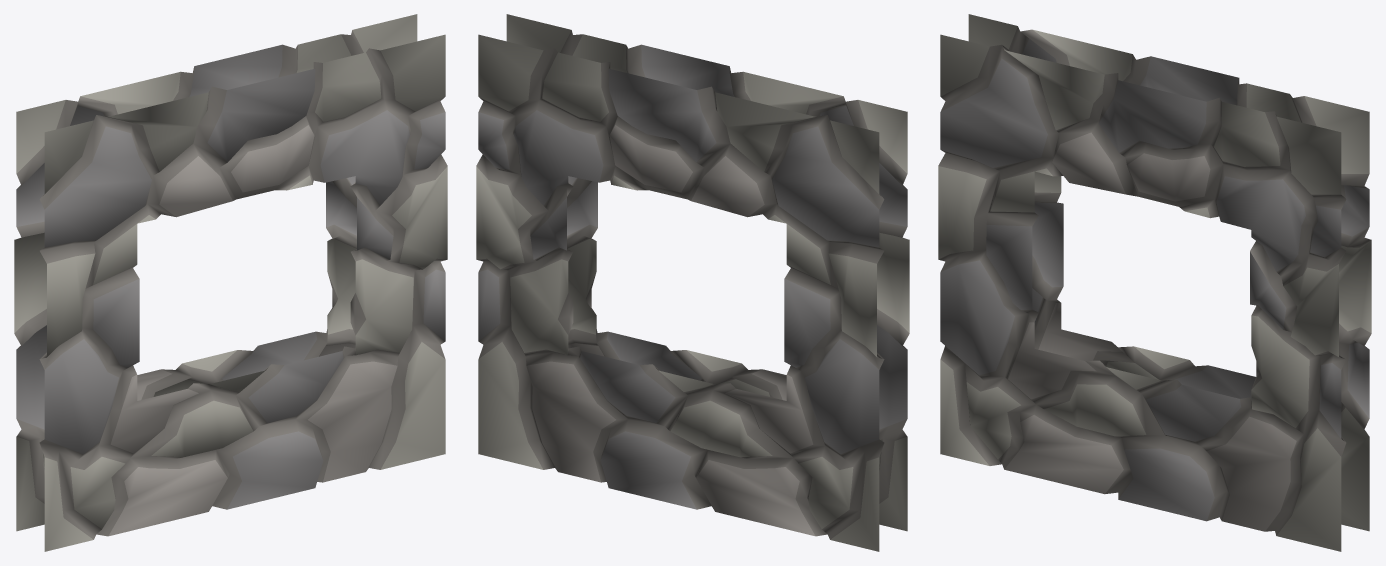
Rendered from rpgpp_ag_wall_03_3x3_window_a.fbx.
3 renders of one model, left to right at view 1: azimuth 30°, elevation 25°; view 2: azimuth 150°, elevation 25°; view 3: azimuth 330°, elevation 25°, orthographic.
Parts seen in each view (by area): view 1: rpgpp_ag_wall_03_3x3_window_a; view 2: rpgpp_ag_wall_03_3x3_window_a; view 3: rpgpp_ag_wall_03_3x3_window_a.
Part boxes in pixels (left/top/right/bottom): rpgpp_ag_wall_03_3x3_window_a: left=14, top=14, right=447, bottom=551; rpgpp_ag_wall_03_3x3_window_a: left=476, top=14, right=909, bottom=551; rpgpp_ag_wall_03_3x3_window_a: left=938, top=14, right=1371, bottom=551.
Bounding box in the file's own units: 3 × 3 × 0.4237.
